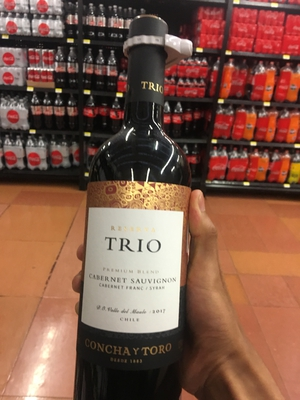trio cabernet sauvignon: (72, 16, 217, 400)
